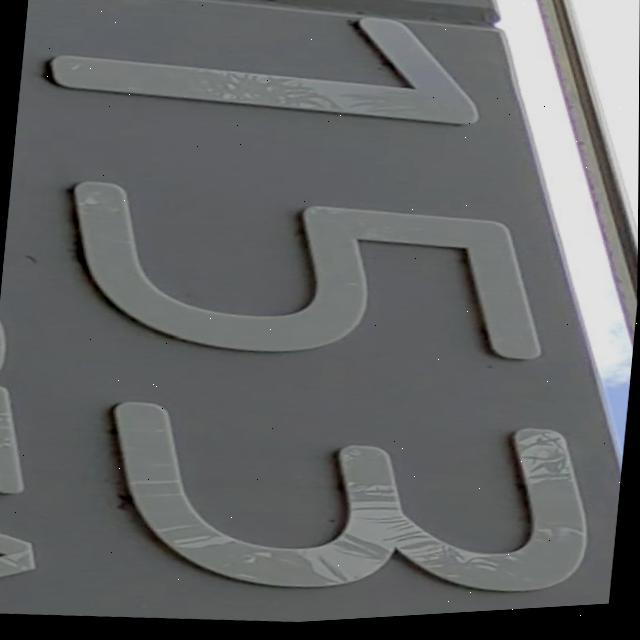character: (86, 366, 603, 633), (44, 144, 560, 403), (36, 0, 491, 159)
